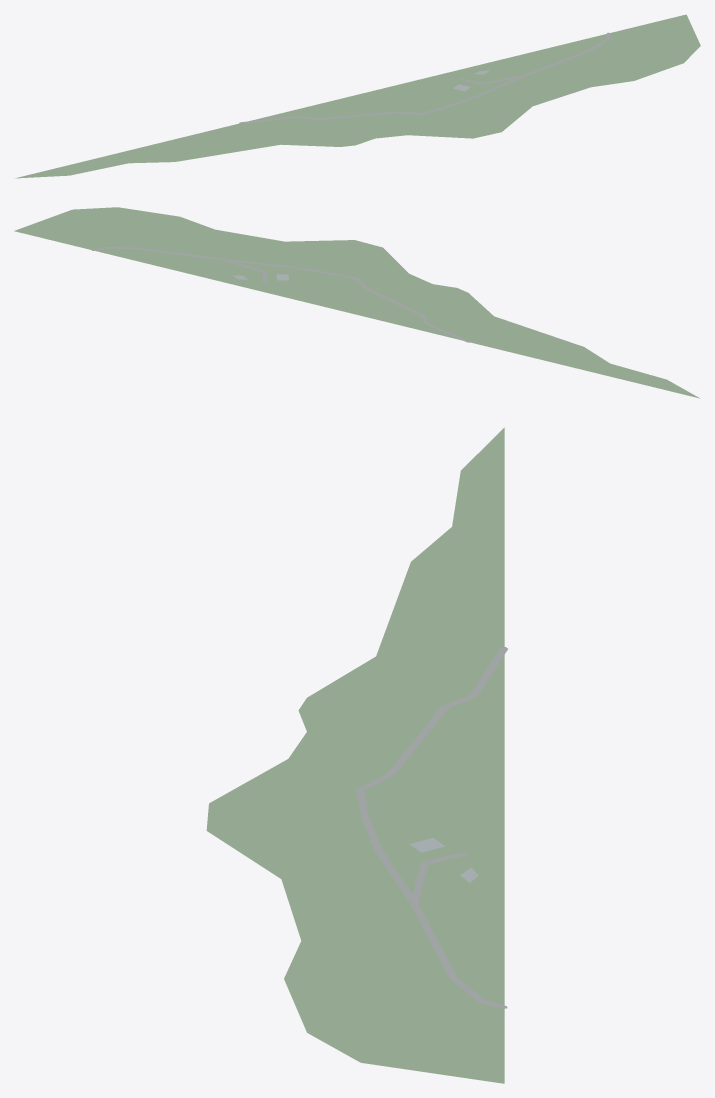
Rendered from -22_-16-known-fine.glb.
The picture shows the model from 3 angles, top to bottom: view 1: azimuth 30°, elevation 25°; view 2: azimuth 150°, elevation 25°; view 3: azimuth 270°, elevation 25°; orthographic projection. The views are drawn at different scales.
Bounding box in the file's own units: 593 × 0.15 × 115.
